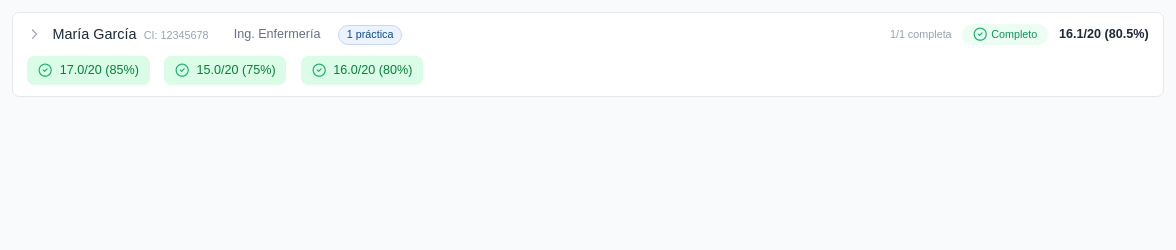
Test: EvaluationCard — Expanded View › se colapsa al hacer click de nuevo
The width and height of the screenshot is (1176, 250).
Step 1. Click the button with aria-label "expandir" → coordinates (95, 34), box [13,13,1163,56]
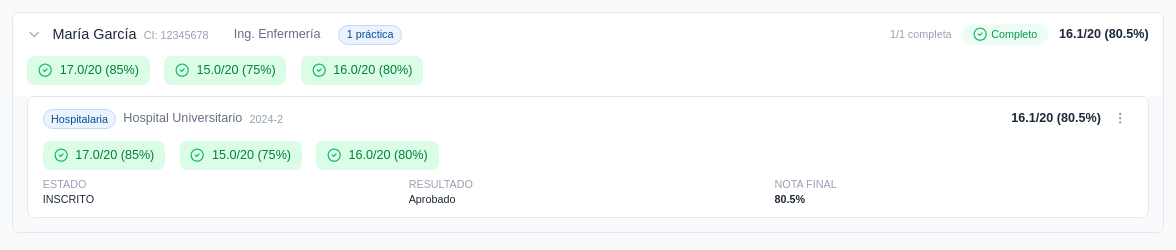
Check: the text "Hospital Universitario" is shown, box [123,110,242,128]
Step 2. Click the button with aria-label "expandir" → coordinates (95, 34), box [13,13,1163,56]
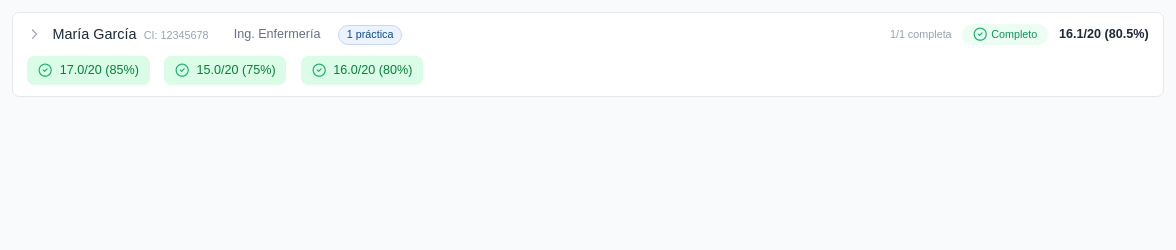
Check: the text "Hospital Universitario" is gone
